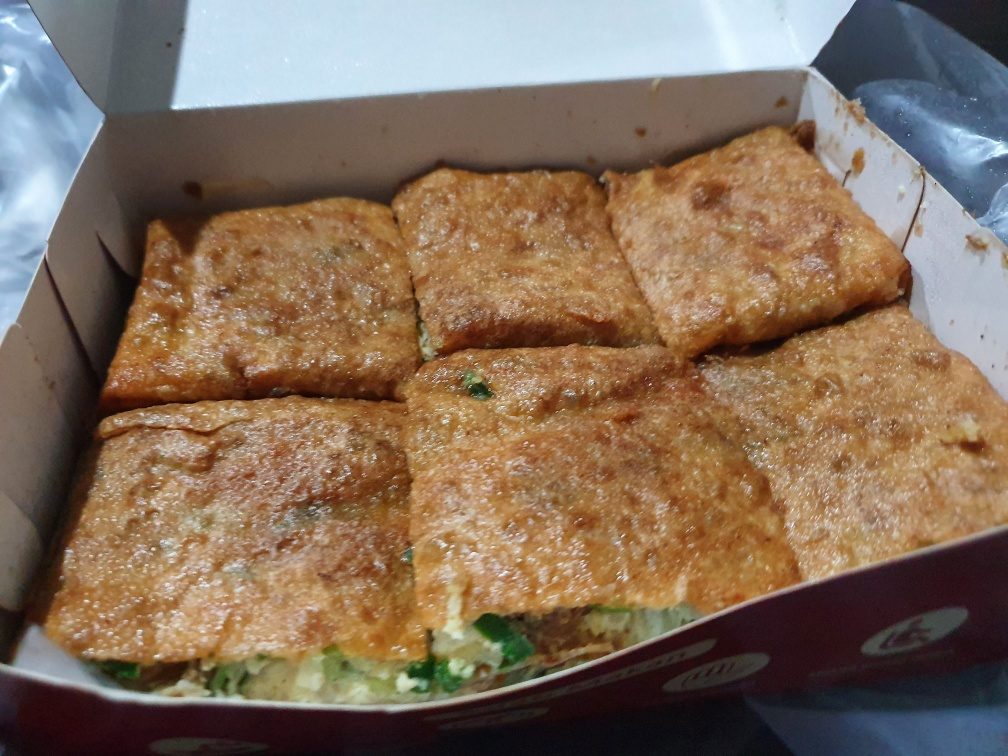martabak telor: (400, 360, 753, 657), (68, 406, 402, 695), (701, 333, 1003, 586), (587, 142, 903, 341), (124, 197, 408, 402), (377, 158, 646, 347)
